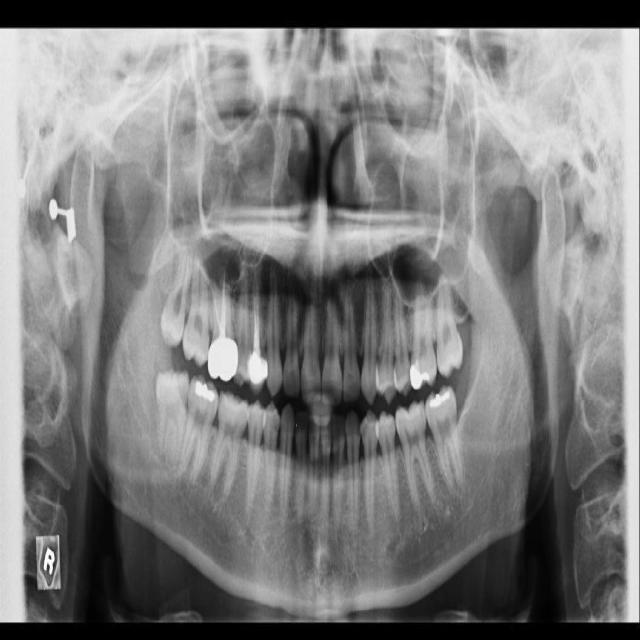3M ESPE Implant: (158, 244, 194, 349)
52: (418, 381, 465, 435), (186, 375, 219, 428), (206, 332, 240, 383), (407, 342, 440, 391), (248, 345, 267, 396)
73: (208, 263, 234, 339), (249, 272, 267, 348), (605, 566, 611, 580)
BioHorizons Implant: (436, 261, 463, 379)
Blue Sky Bio Implant: (422, 383, 466, 493)
Caries: (183, 254, 209, 368)
Implant: (176, 373, 222, 487)
Keystone Dental Implant: (154, 369, 190, 467)
